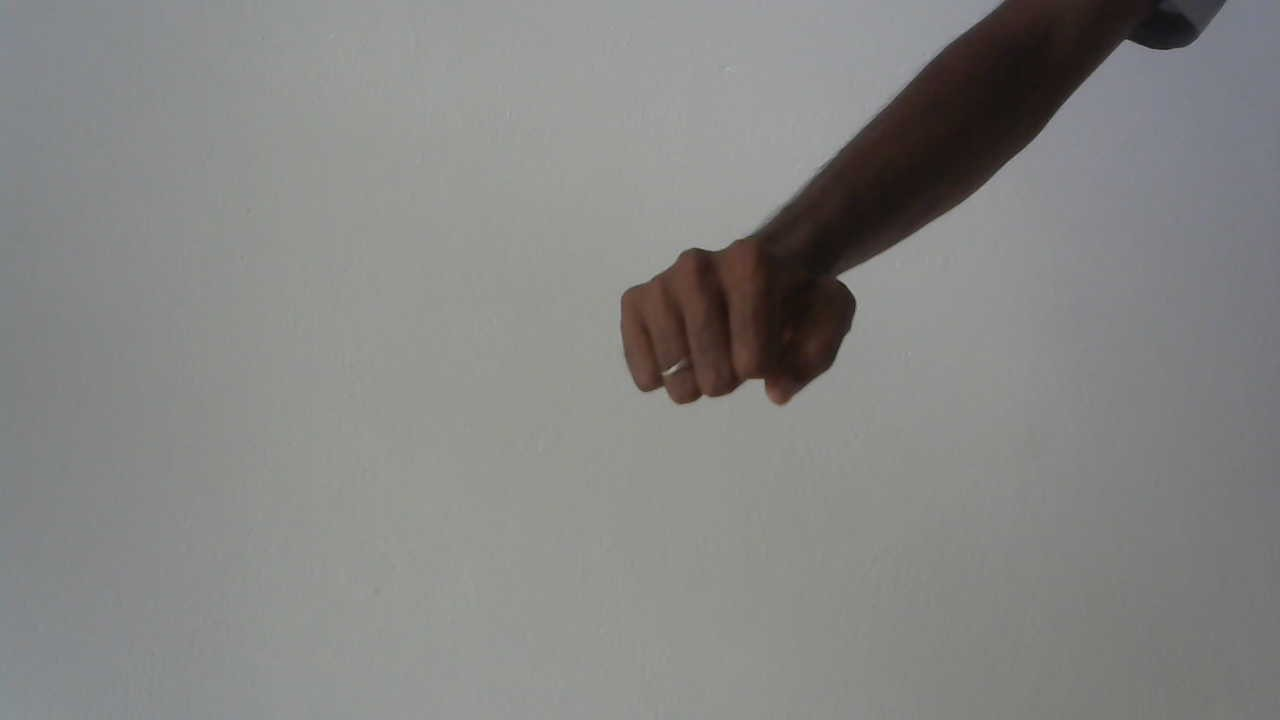yes: (600, 228, 876, 434)
